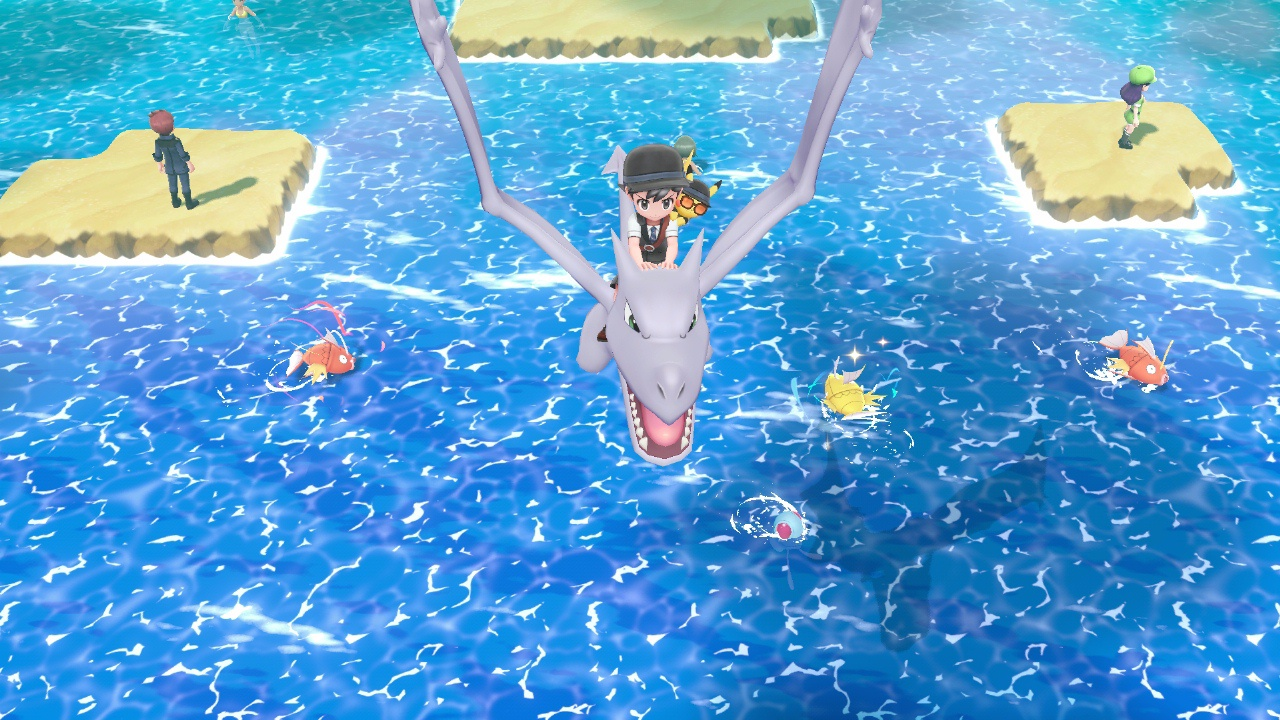Golden: (819, 366, 886, 423)
